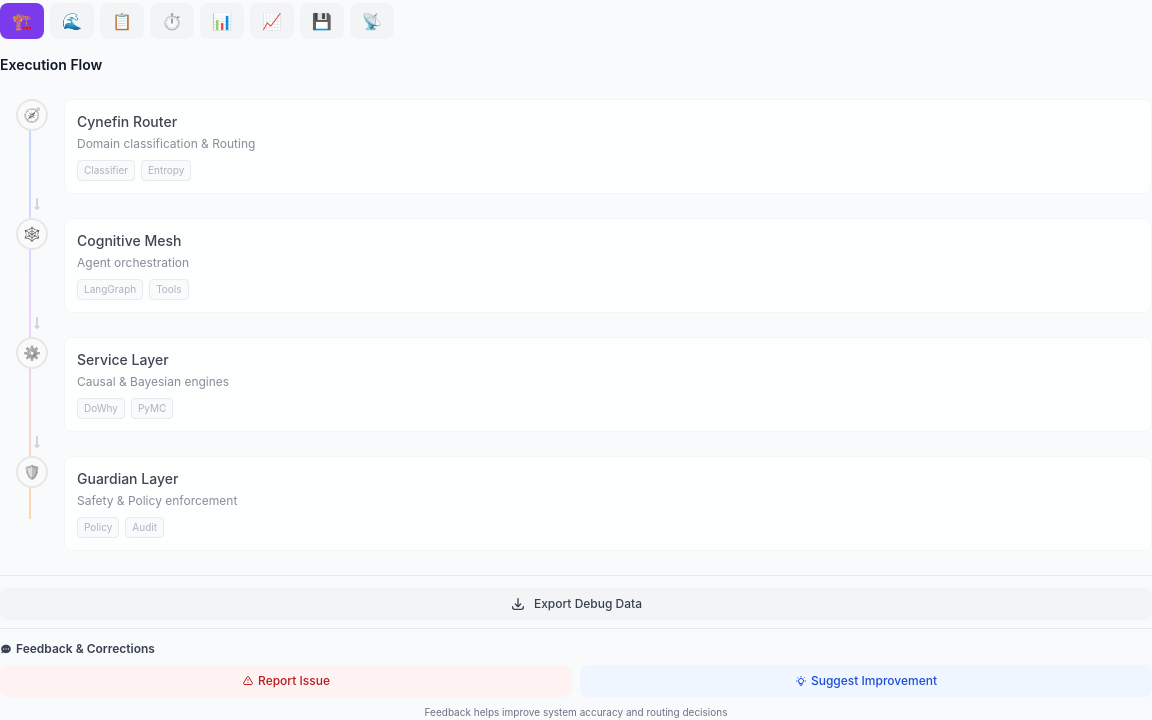
Test: DeveloperView › Suggest Improvements modal (5D) › opens improvement modal when Suggest Improvement button is clicked
(page scrolled)
Note: Find and click the "Suggest Improvement" button
Click the button with test id "suggest-improvement-btn".
click(866, 681)  # box [580,665,1151,697]
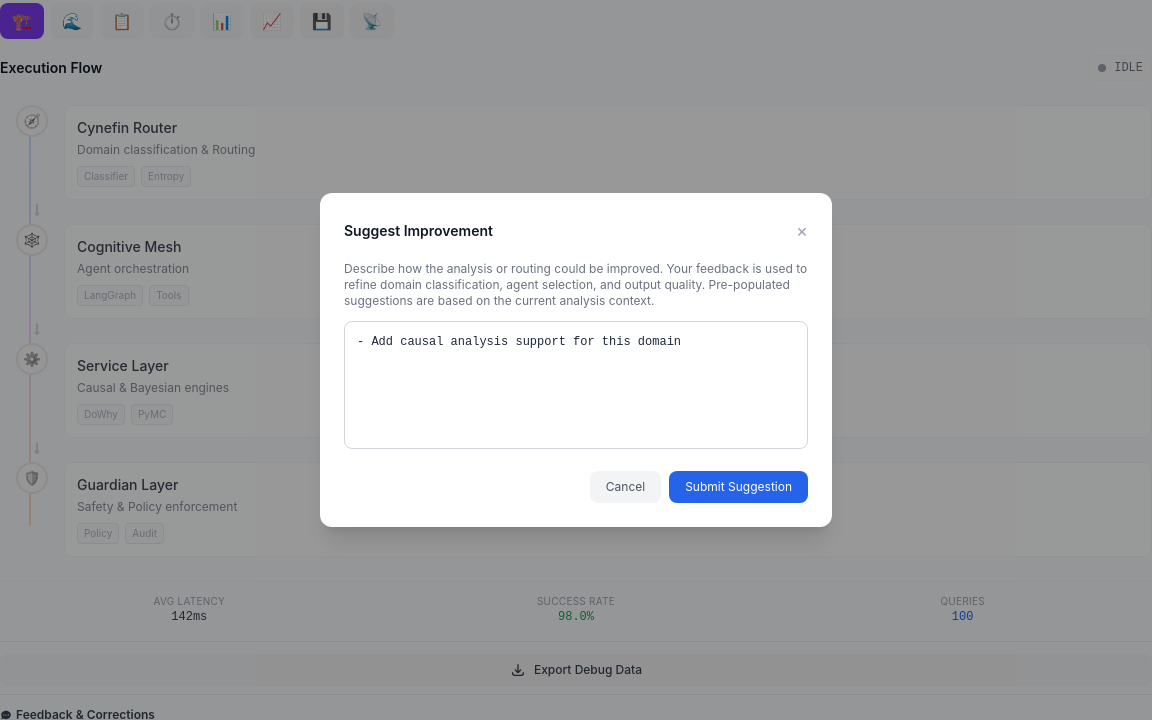
Expected: the element with test id "improvement-modal" is shown
Expected: the text box with test id "improvement-textarea" is shown, [344,321,808,449]
